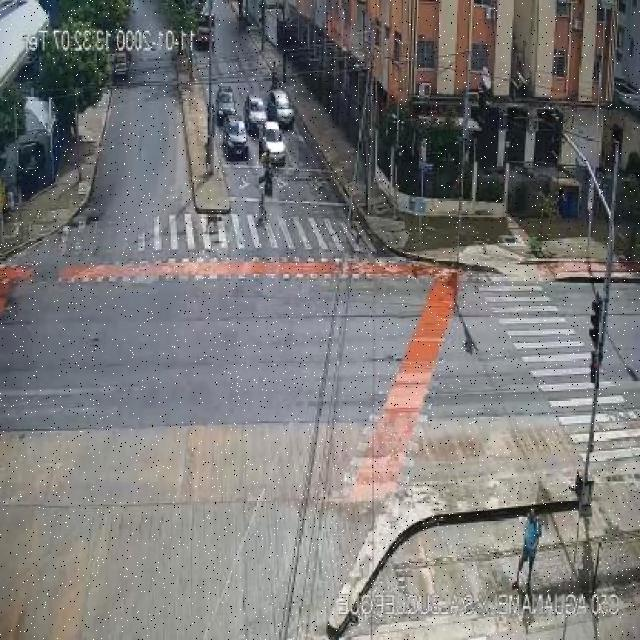Car: (257, 120, 287, 164), (221, 114, 250, 158), (268, 89, 294, 125), (244, 95, 268, 128), (216, 85, 237, 121), (114, 53, 131, 78)
Truck: (196, 10, 217, 48)
